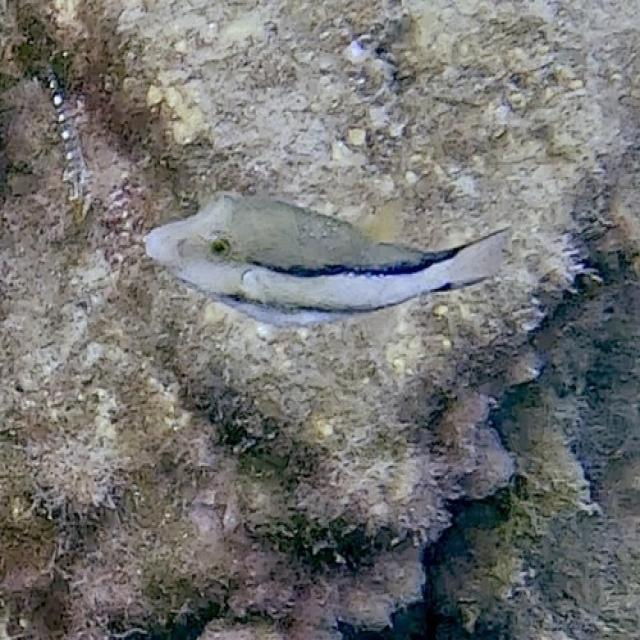Balik: (145, 193, 508, 325)
